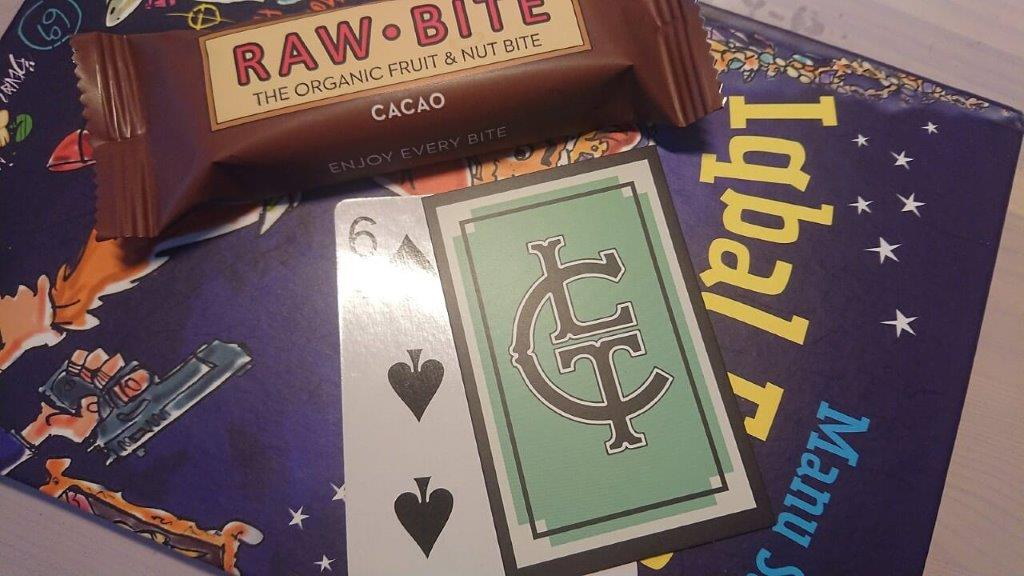6S: (331, 194, 422, 576)
